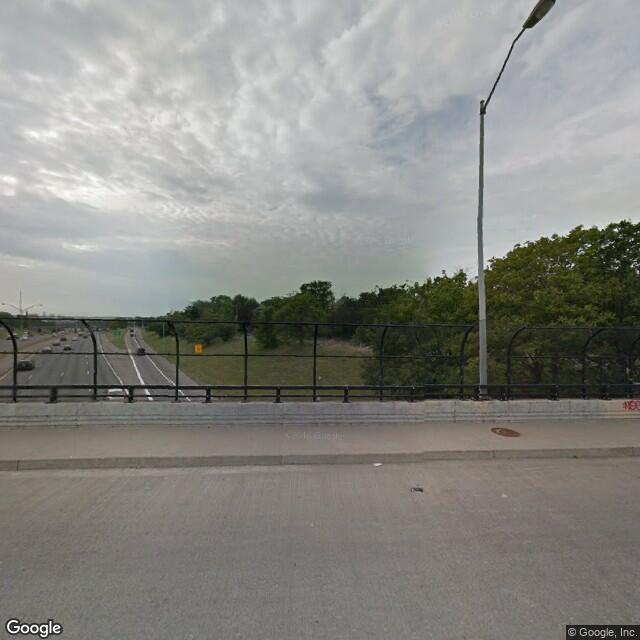litter: (367, 455, 389, 470)
